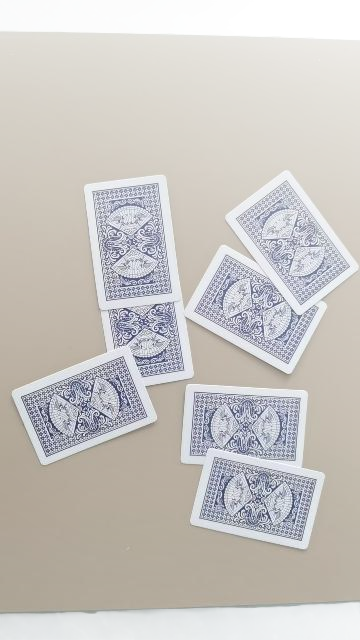card: (226, 171, 359, 315), (185, 246, 326, 374), (12, 346, 156, 465), (191, 450, 324, 549), (84, 175, 181, 310), (181, 385, 306, 465), (101, 300, 194, 386)
